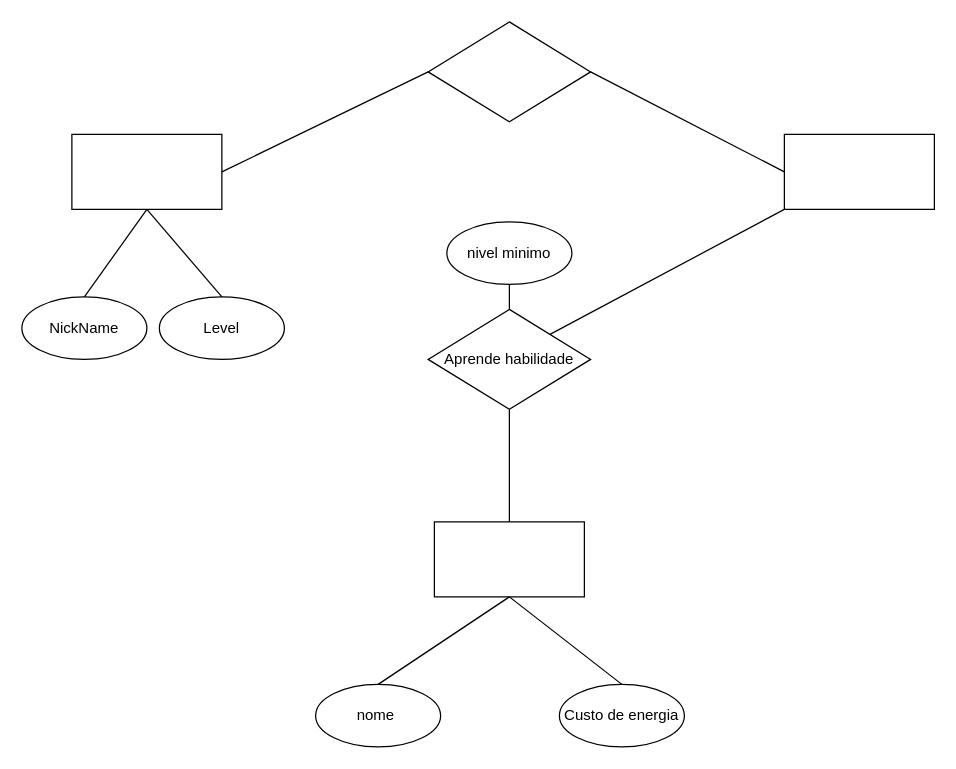
Some shapes in this 956 by 769 pixel diagram are drawn without their labels. Each missing label, with the centre of its shape:
CLASSES: point 858,171
Habilidades: point 508,559
PERSONAGEM: point 146,171
